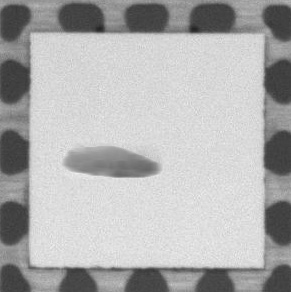DIE_INK: (58, 142, 160, 180)
